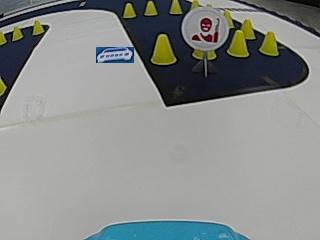evil: (180, 7, 229, 51)
